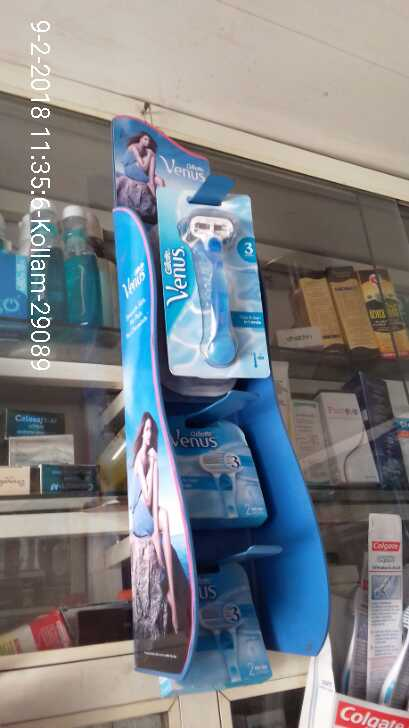venus: (150, 186, 265, 379), (155, 412, 266, 526)
